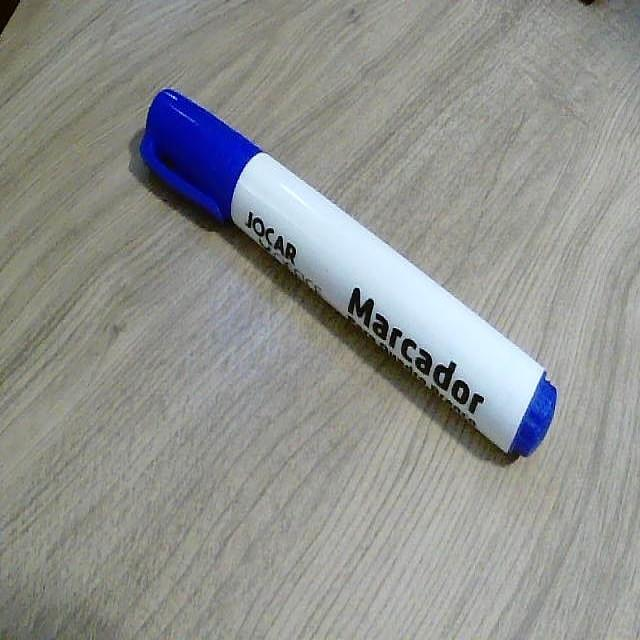caneta: (123, 48, 568, 516)
